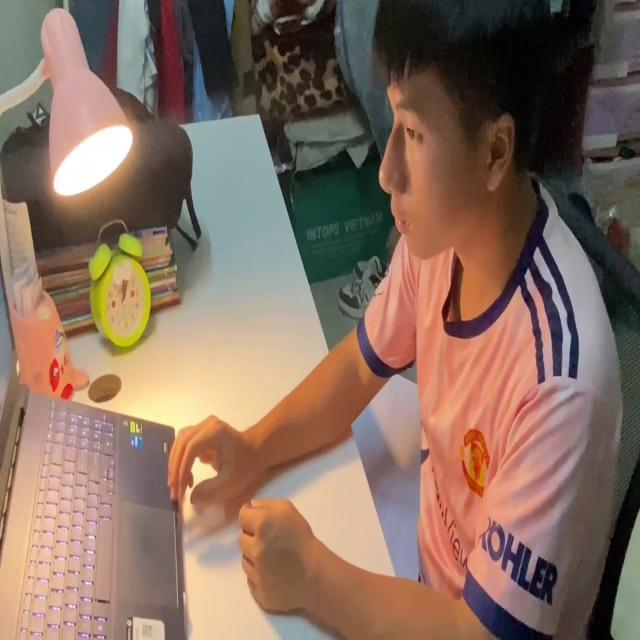book: (352, 353, 427, 589)
laptop: (0, 253, 188, 640)
student: (166, 0, 620, 640)
